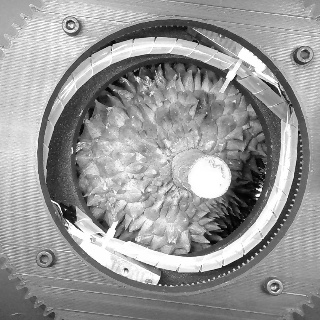base: (166, 145, 208, 197)
end: (187, 155, 232, 199)
